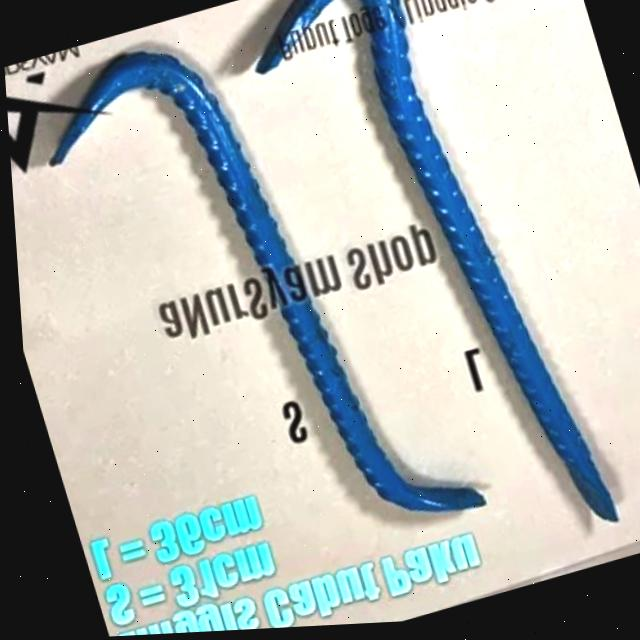crow bar: (51, 45, 475, 523), (346, 0, 611, 522)
